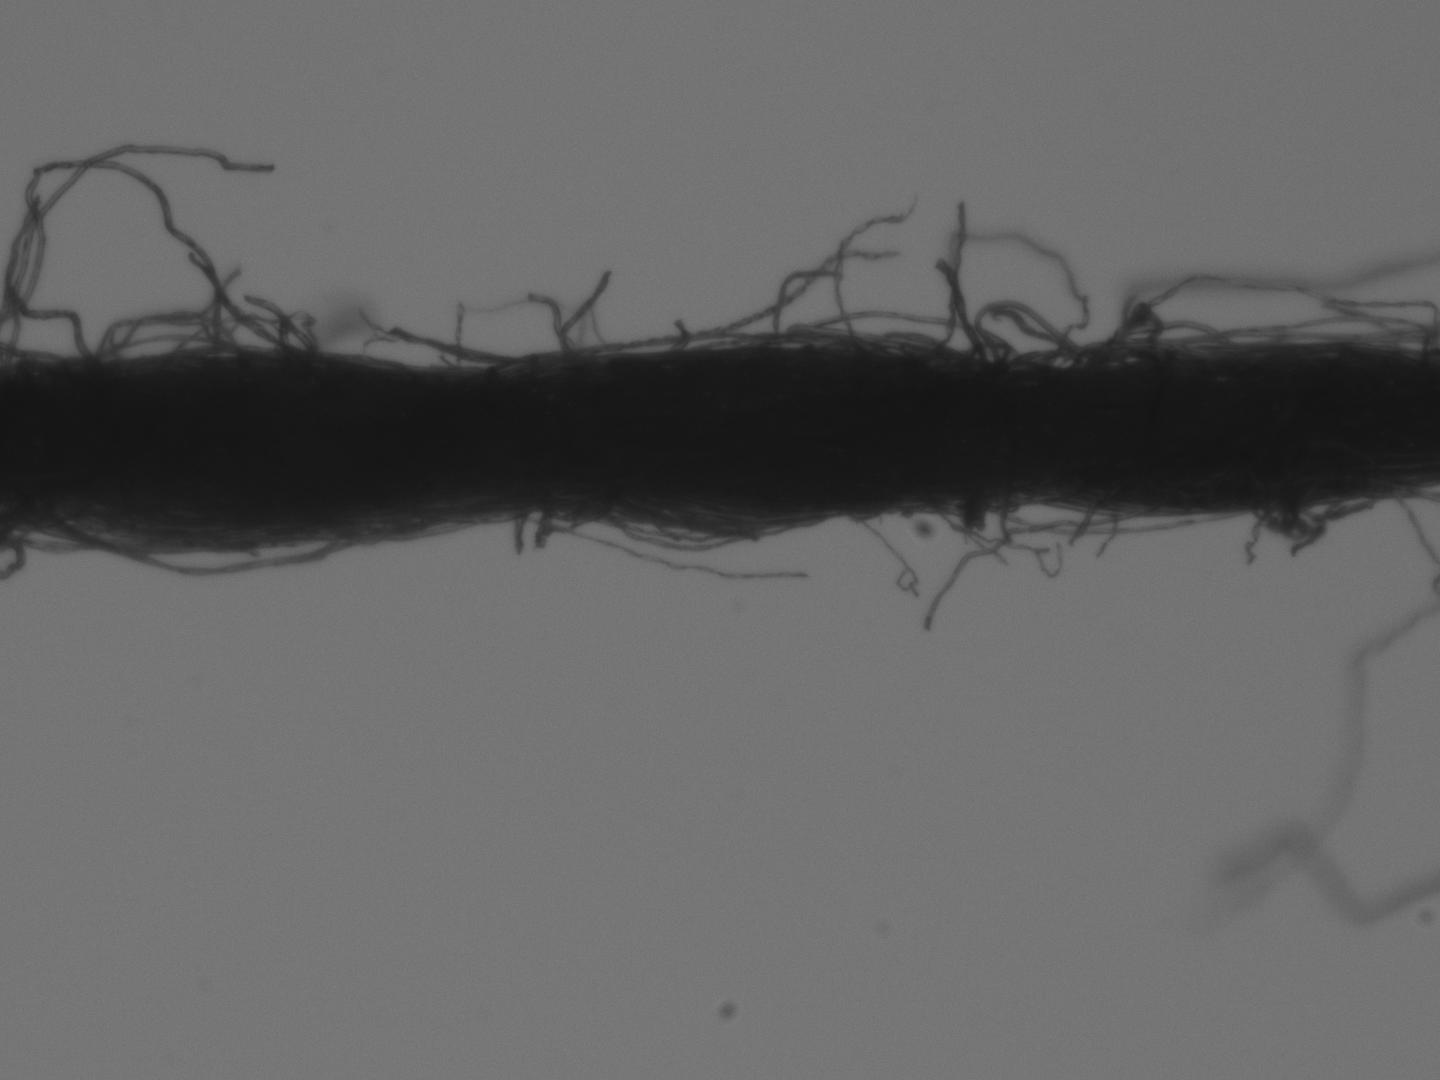loop_fiber: (1, 160, 281, 363), (1103, 271, 1430, 351), (41, 518, 353, 575), (773, 305, 1011, 353), (1159, 312, 1431, 352), (98, 314, 308, 360), (611, 515, 807, 557), (979, 298, 1087, 369), (562, 329, 777, 356), (1250, 497, 1370, 539), (1094, 303, 1162, 371), (101, 337, 235, 361), (1073, 339, 1158, 371), (1144, 320, 1226, 351), (952, 501, 984, 533), (964, 344, 1009, 365)
protruding_fiber: (704, 211, 907, 337), (923, 497, 1015, 625), (835, 247, 898, 339), (388, 320, 506, 364), (558, 273, 612, 353), (947, 204, 966, 351), (514, 503, 527, 549)
